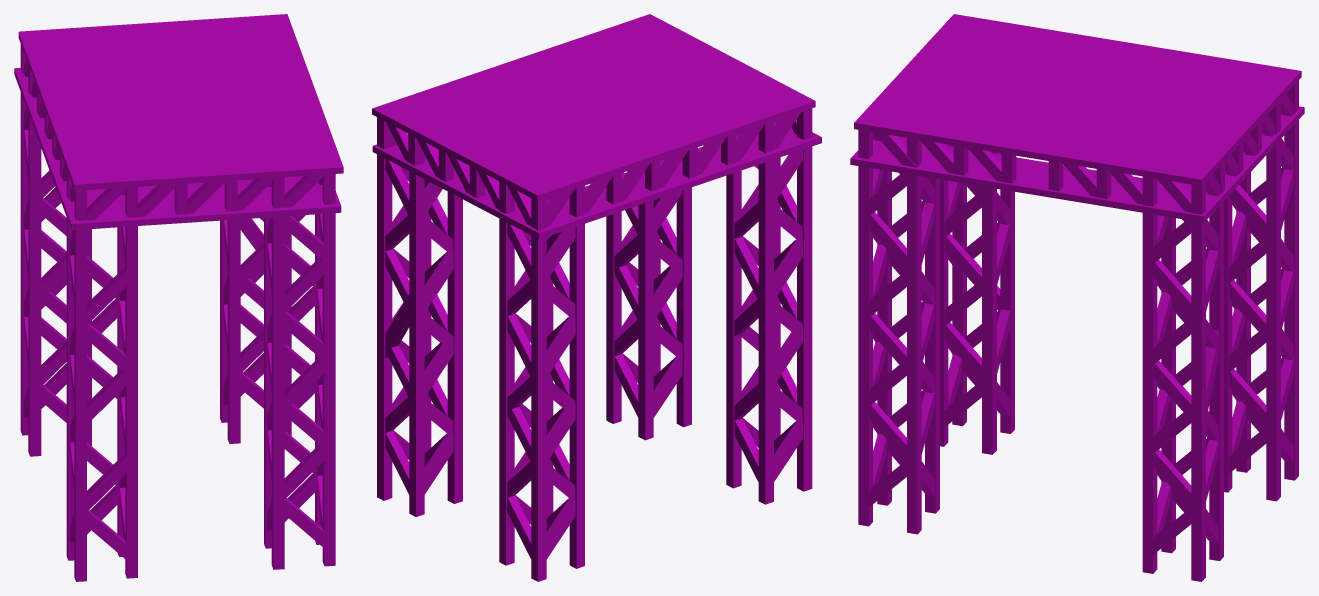
Rendered from Platform_B.fbx.
3 views of the same model, side by side, from view 1: azimuth 30°, elevation 25°; view 2: azimuth 150°, elevation 25°; view 3: azimuth 270°, elevation 25° (orthographic). The views are drawn at different scales.
Visible parts, largest first — view 1: Platform_B; view 2: Platform_B; view 3: Platform_B.
Part boxes in pixels (x1=…): Platform_B: x1=14, y1=14, x2=343, y2=581; Platform_B: x1=372, y1=14, x2=821, y2=581; Platform_B: x1=850, y1=14, x2=1304, y2=581.
Bounding box in the file's own units: 7.81 × 8.76 × 8.91.
